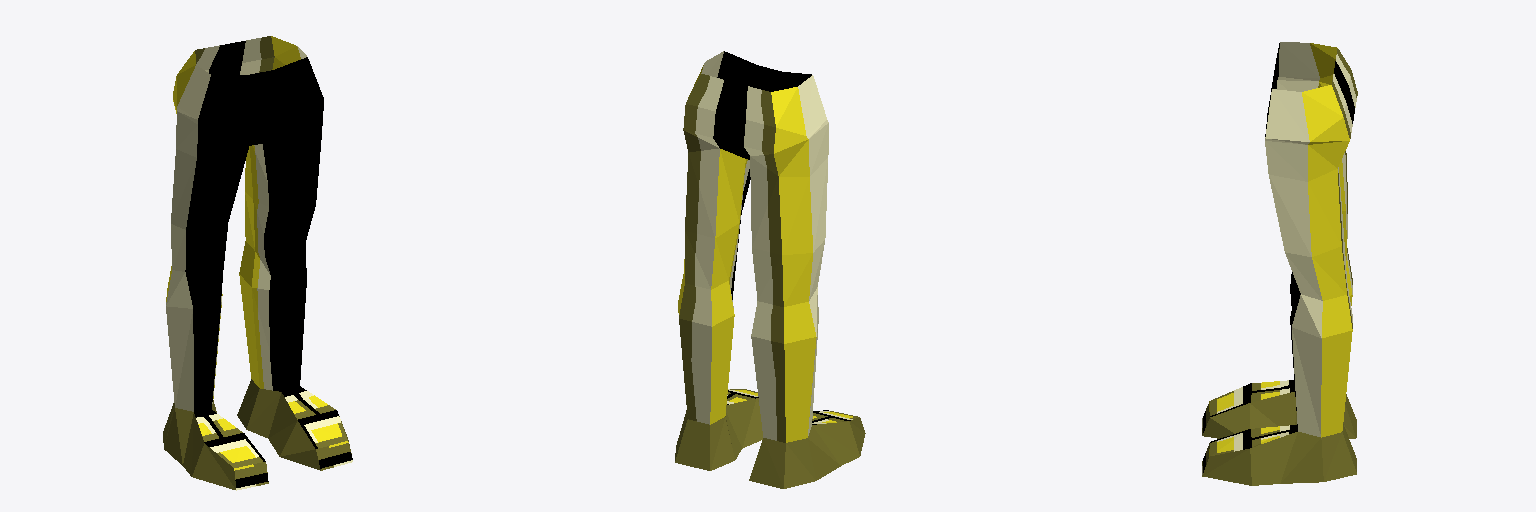
3 renders of one model, left to right at view 1: azimuth 30°, elevation 25°; view 2: azimuth 150°, elevation 25°; view 3: azimuth 270°, elevation 25°, orthographic.
Parts seen in each view (by area): view 1: Cube; view 2: Cube; view 3: Cube.
Part boxes in pixels (bbox=[...]): Cube: bbox=[163, 36, 352, 490]; Cube: bbox=[675, 51, 865, 488]; Cube: bbox=[1202, 42, 1357, 485].
Bounding box in the file's own units: 4.44 × 10.47 × 3.84.
1 materials, 1 textured.